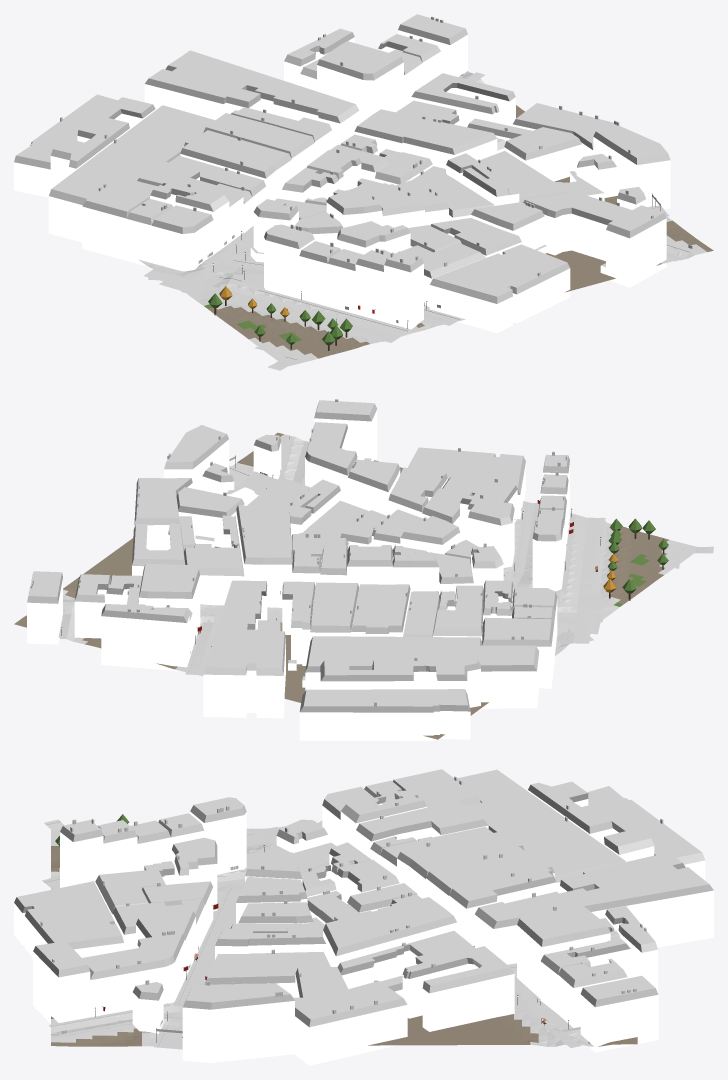
File: zone_C3.glb
3 renders of one model, top to bottom at view 1: azimuth 30°, elevation 25°; view 2: azimuth 150°, elevation 25°; view 3: azimuth 270°, elevation 25°, orthographic. The views are drawn at different scales.
Parts seen in each view (by area): view 1: zone_C3_batiments, zone_C3_terrain, zone_C3_sol_NOCOL, zone_C3_decor_NOCOL; view 2: zone_C3_batiments, zone_C3_sol_NOCOL, zone_C3_terrain, zone_C3_decor_NOCOL; view 3: zone_C3_batiments, zone_C3_terrain, zone_C3_sol_NOCOL.
Part boxes in pixels (x1=…): zone_C3_batiments: x1=14, y1=14, x2=670, y2=333; zone_C3_terrain: x1=138, y1=71, x2=713, y2=366; zone_C3_sol_NOCOL: x1=143, y1=72, x2=692, y2=370; zone_C3_decor_NOCOL: x1=208, y1=198, x2=656, y2=350; zone_C3_batiments: x1=27, y1=399, x2=569, y2=740; zone_C3_sol_NOCOL: x1=60, y1=439, x2=713, y2=675; zone_C3_terrain: x1=14, y1=432, x2=696, y2=739; zone_C3_decor_NOCOL: x1=61, y1=475, x2=668, y2=643; zone_C3_batiments: x1=14, y1=769, x2=713, y2=1065; zone_C3_terrain: x1=51, y1=828, x2=637, y2=1046; zone_C3_sol_NOCOL: x1=42, y1=819, x2=581, y2=1049.
Size of the model in its own units: 226 by 33.15 by 254.
